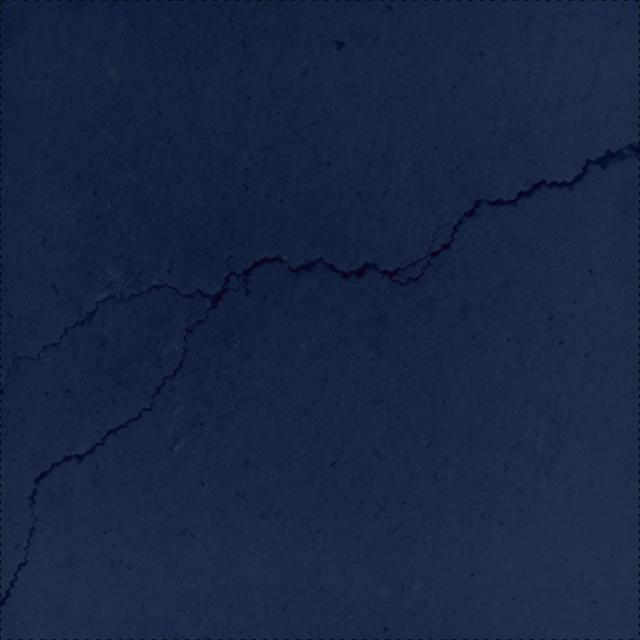crack: (0, 141, 640, 611)
